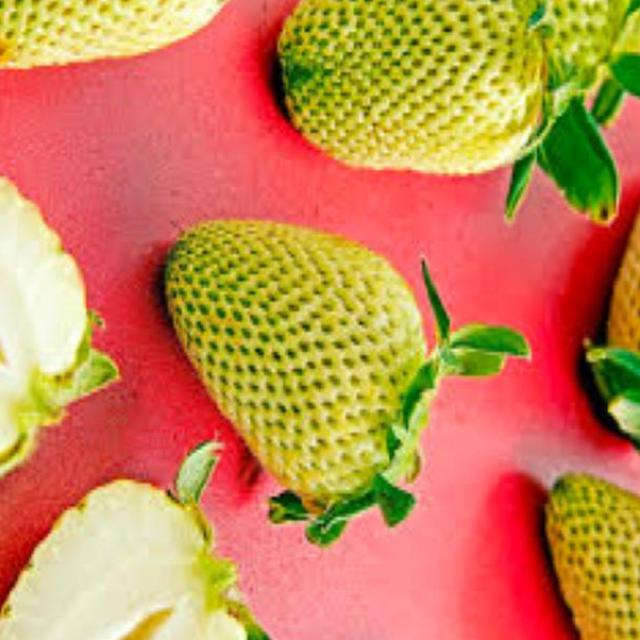Healthy Fruit: (165, 214, 436, 525), (278, 0, 550, 176)
